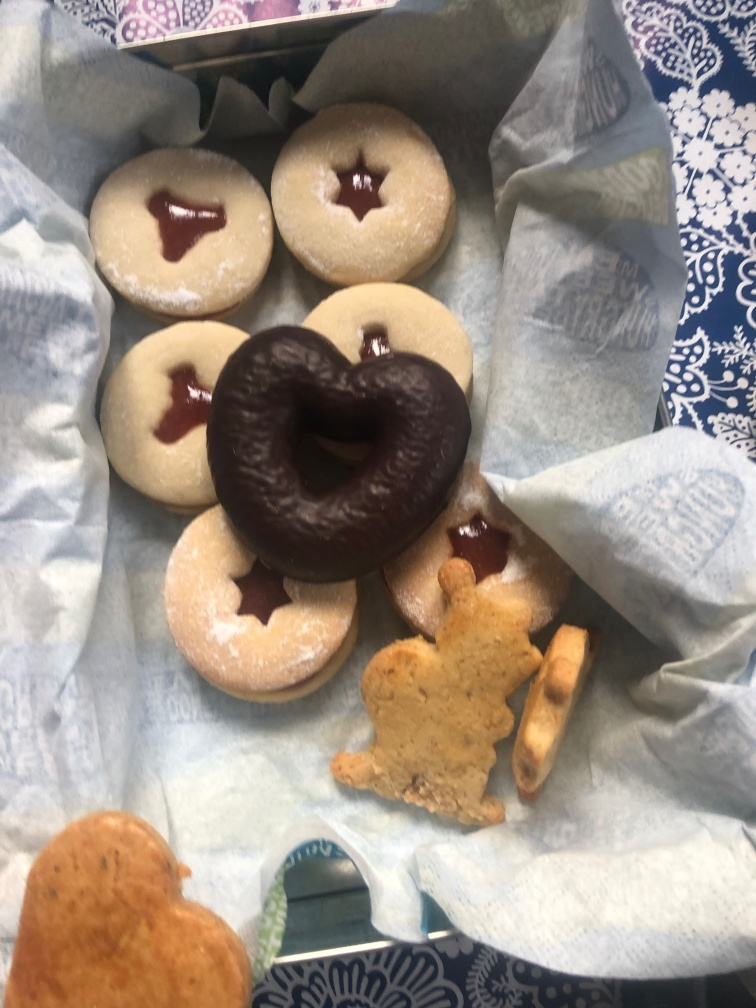christmas shortbread with jam: (163, 501, 355, 704), (270, 102, 456, 281), (90, 145, 274, 316), (99, 318, 251, 510), (388, 471, 564, 633), (296, 279, 477, 389)
heart: (212, 324, 471, 589), (3, 808, 257, 1008)
santa claus: (329, 551, 546, 830)
